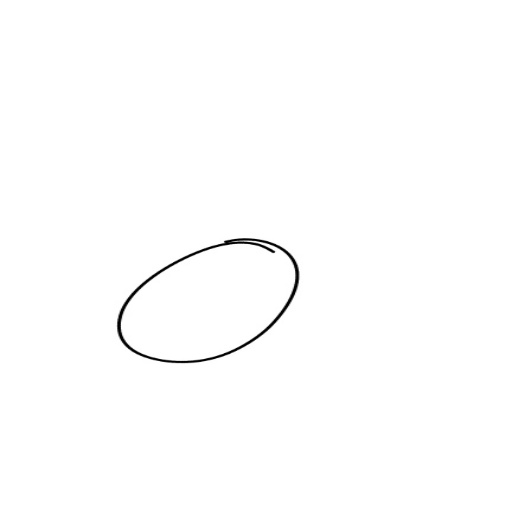circle: (108, 233, 303, 368)
